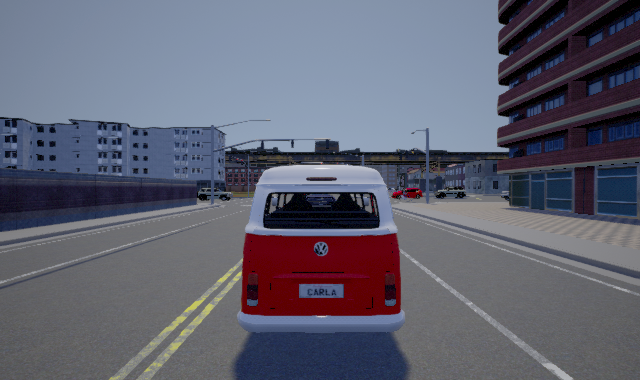vehicle: (237, 158, 403, 333), (198, 186, 232, 204), (392, 186, 424, 202), (434, 186, 466, 199)
